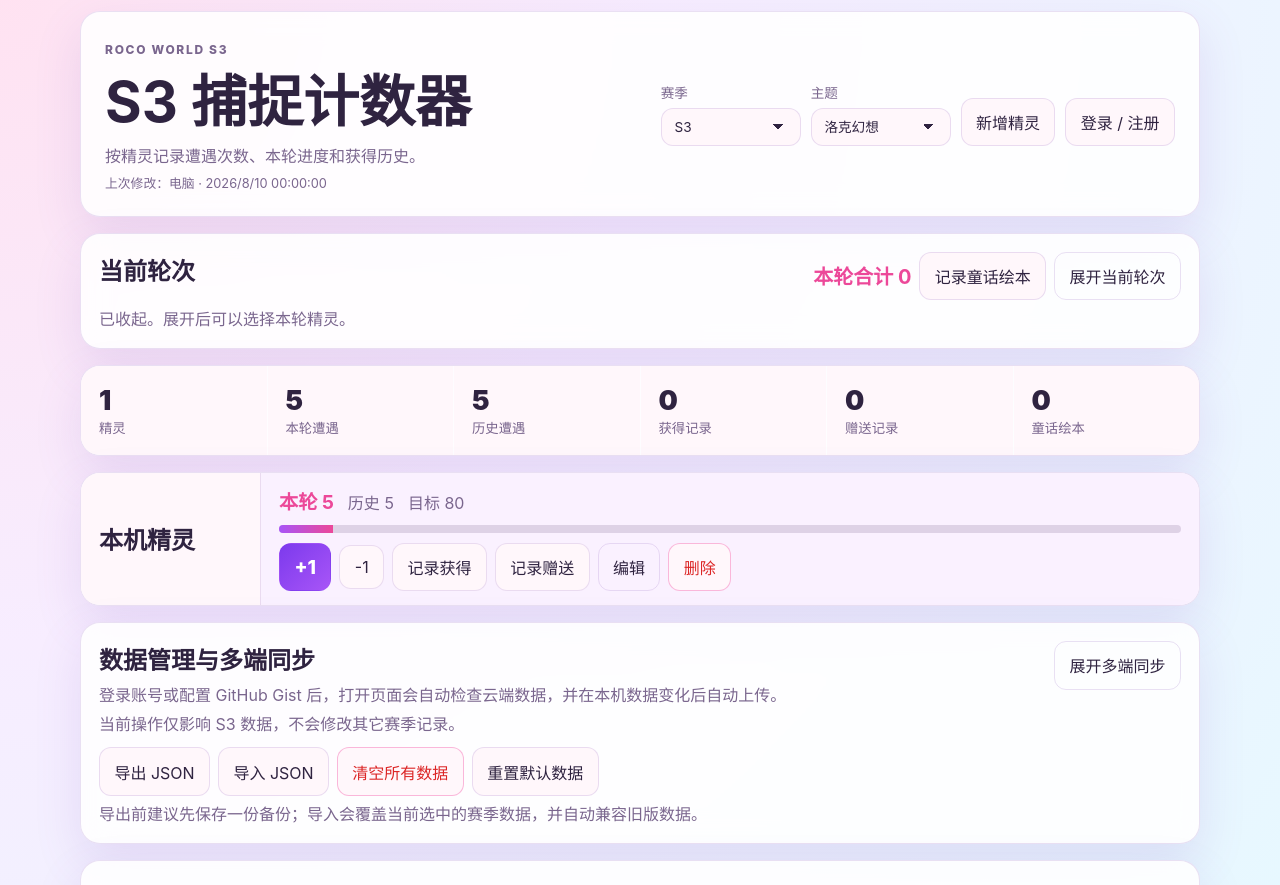
Test: App › uploads a local edit made before startup sync hydration keeps local data
Click the button "+1": [305, 567] box left=279, top=543, right=331, bottom=591
Wait 800 ms
(page scrolled)
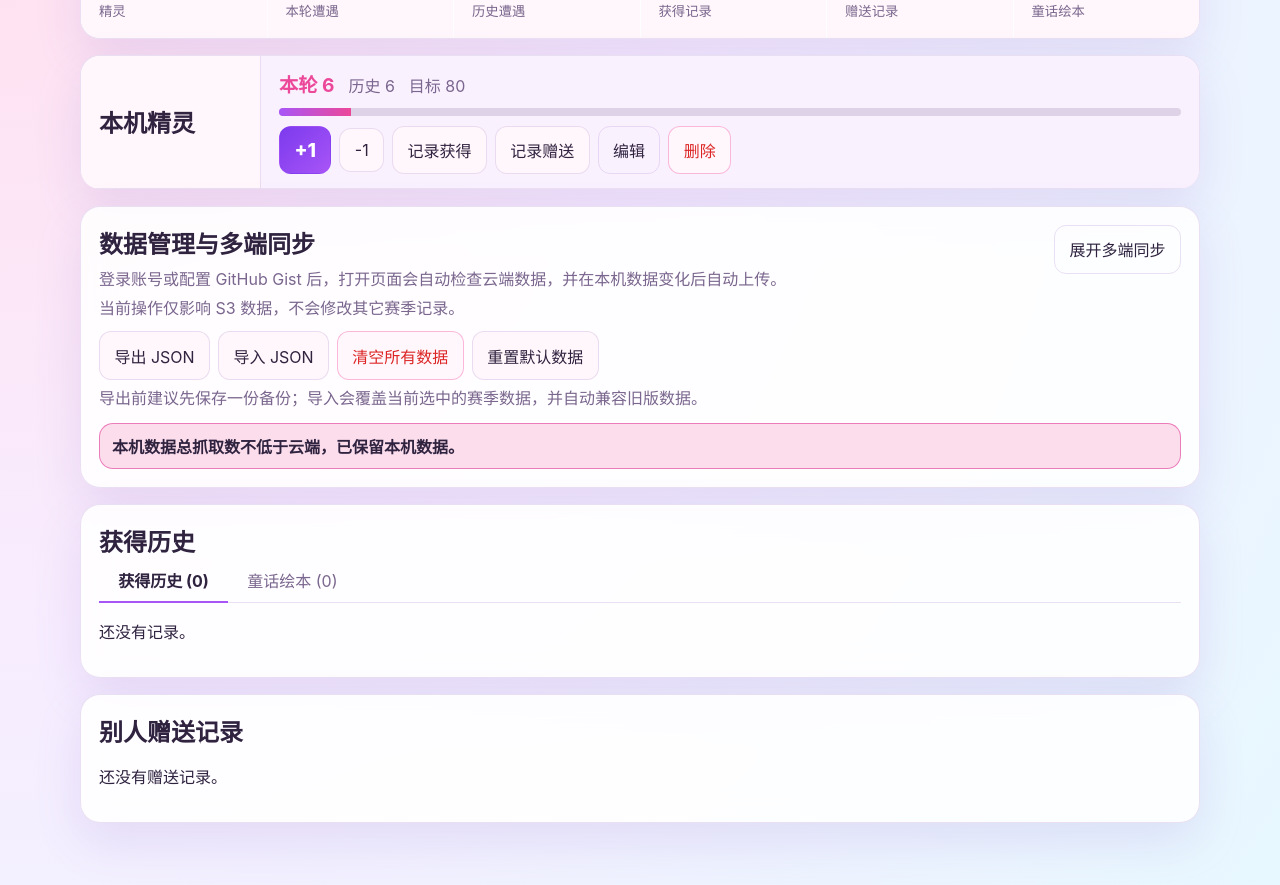
Expected: the message reads "本机数据总抓取数不低于云端，已保留本机数据。", left=112, top=437, right=464, bottom=457
